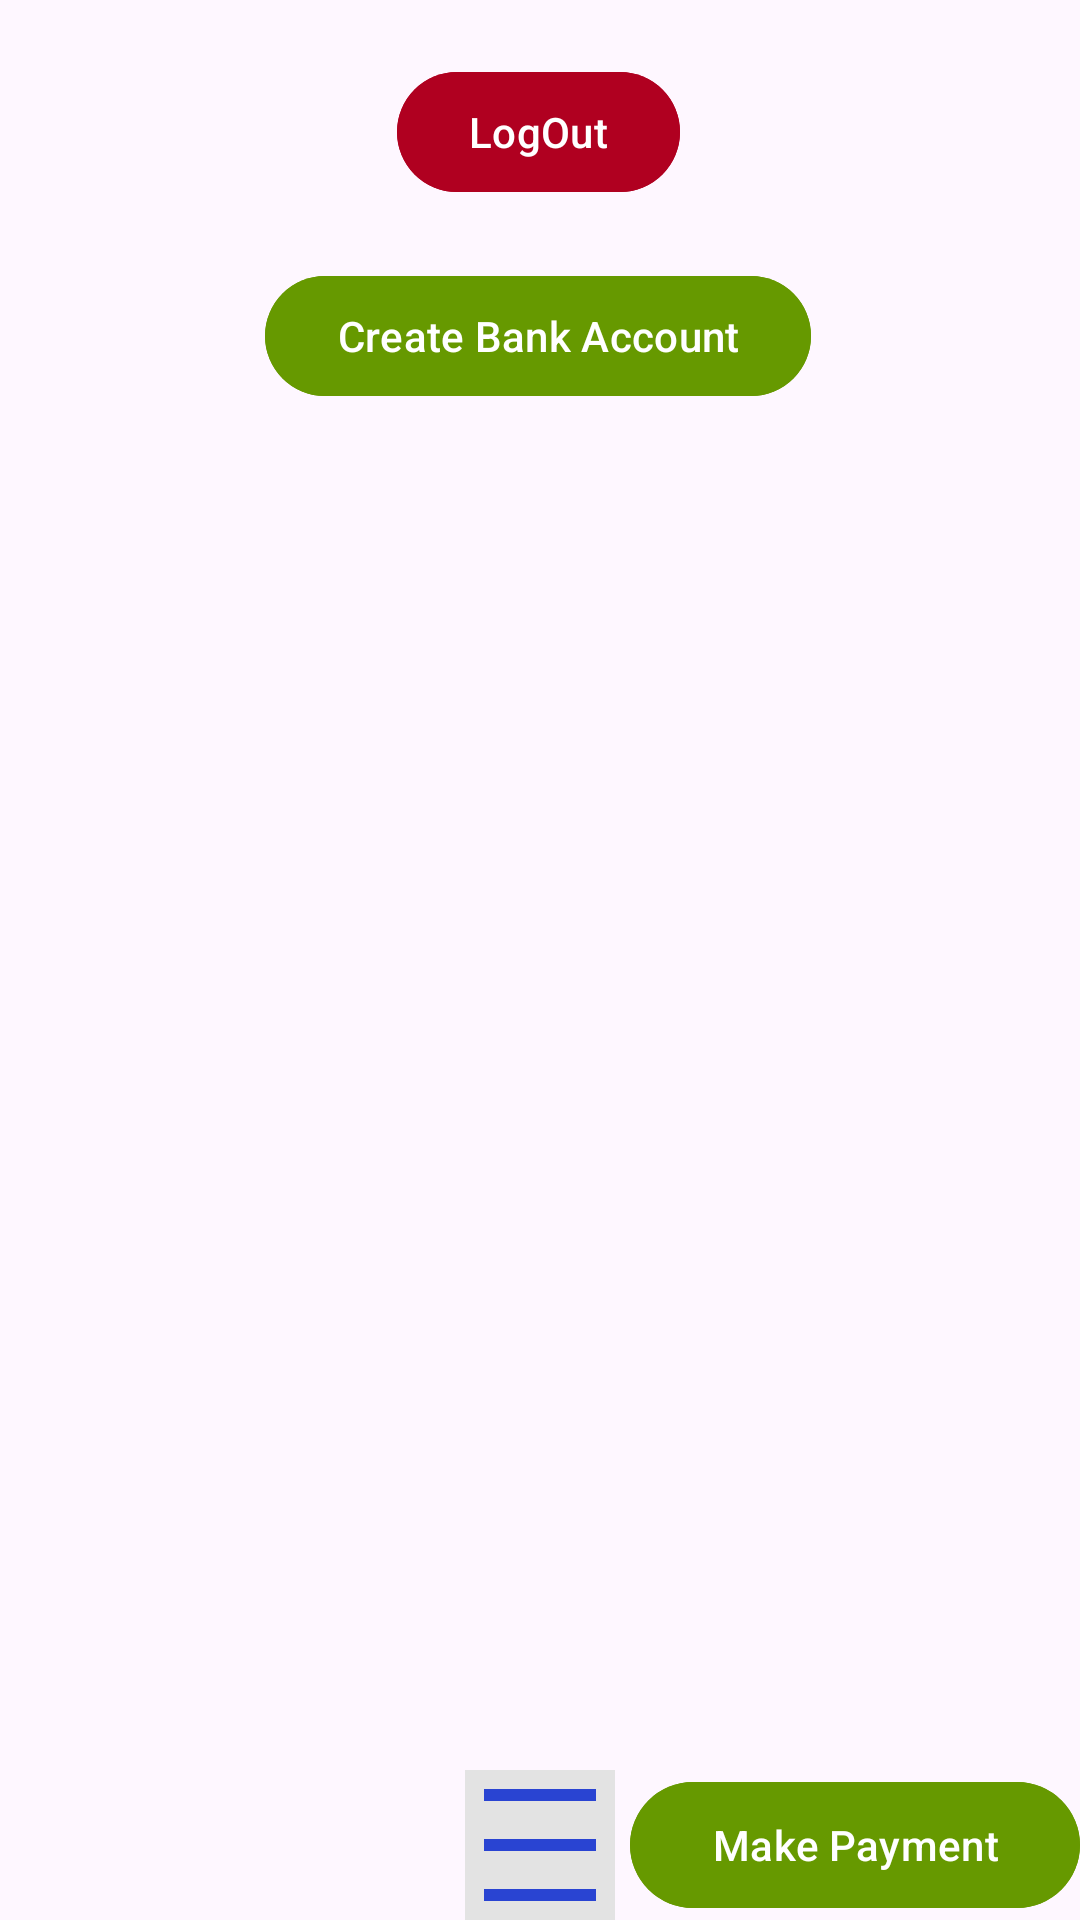

Point at icon controls on the screen. Image size 1080w x 1920h, points as point (x, y).
menu: point (540, 1845)
